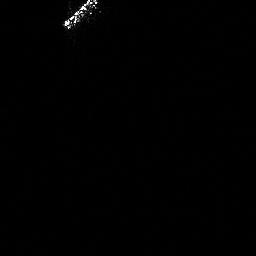ship: (59, 1, 101, 31)
